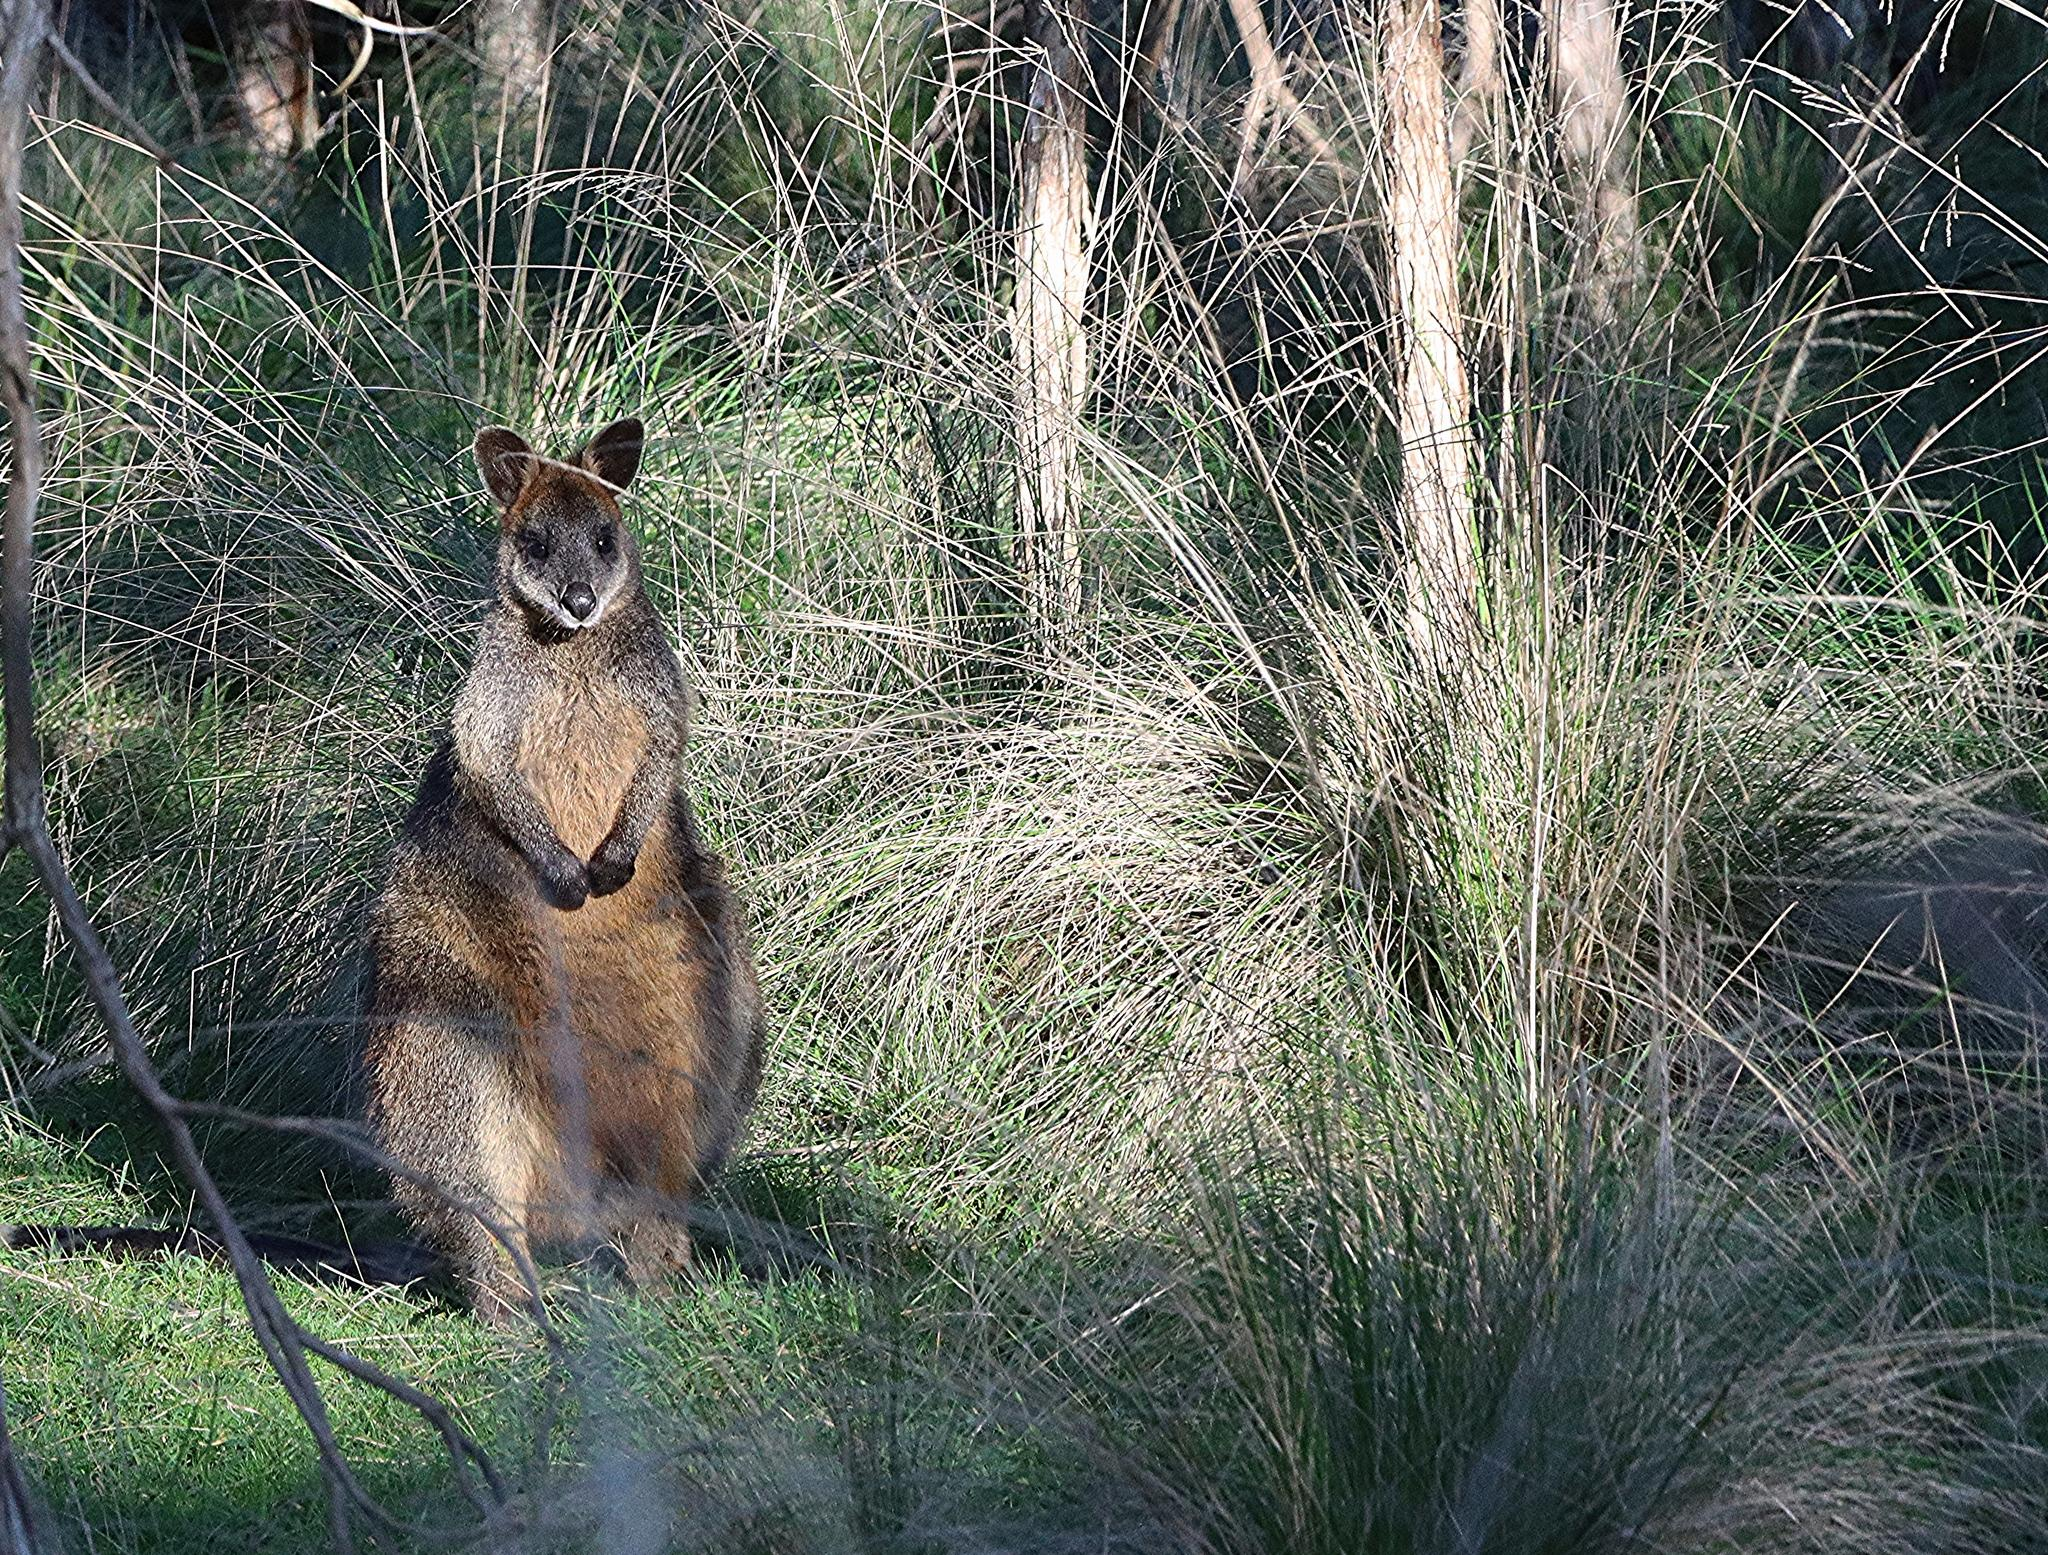Swamp wallaby: (0, 413, 766, 1338)
